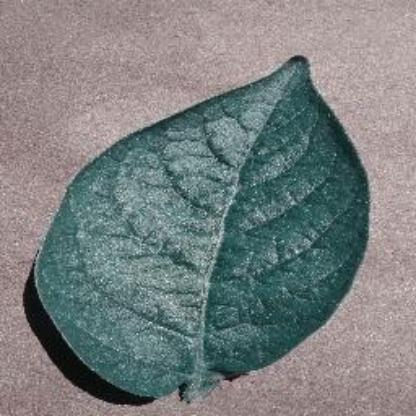Healthy-plant: (31, 49, 382, 407)
